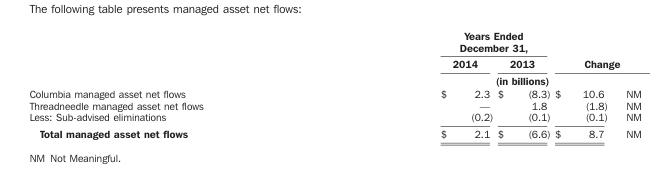table: (28, 28, 640, 139)
table column: (28, 28, 321, 139), (321, 28, 494, 139), (551, 28, 616, 139), (494, 28, 551, 139), (616, 28, 640, 139)
table column header: (28, 28, 640, 99)
table row: (28, 28, 640, 55), (28, 55, 640, 72), (28, 124, 640, 139), (28, 72, 640, 86), (28, 110, 640, 124), (28, 86, 640, 99), (28, 99, 640, 110)
table spanning cell: (28, 28, 321, 99), (321, 28, 551, 55), (321, 72, 616, 86), (551, 28, 640, 72), (616, 72, 640, 99)
